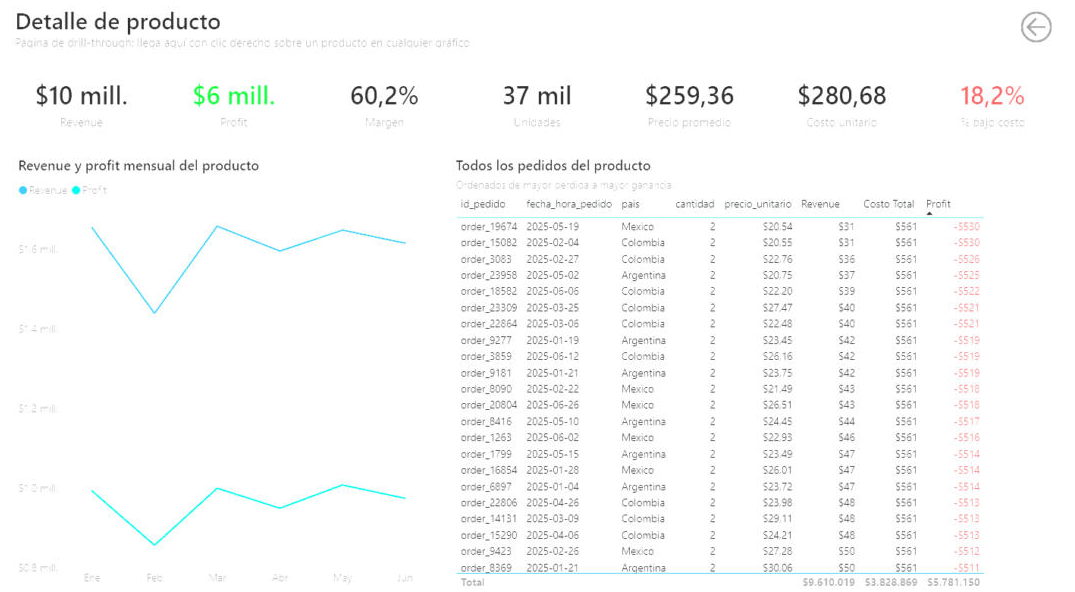

The page's visual inventory and layout, read from the dashboard file:
{"tool":"powerbi","page":{"name":"Detalle de producto","canvas":[1280,720],"ordinal":2},"visuals":[{"type":"textbox","box":[24,10,720,62],"z":0},{"type":"actionButton","box":[1200,18,48,48],"z":50},{"type":"card","fields":{"Values":["orders.Revenue"]},"box":[24,84,166,92],"z":200},{"type":"card","fields":{"Values":["orders.Profit"]},"box":[202,84,166,92],"z":201},{"type":"card","fields":{"Values":["orders.Margen %"]},"box":[379,84,166,92],"z":202},{"type":"card","fields":{"Values":["orders.Unidades"]},"box":[557,84,166,92],"z":203},{"type":"card","fields":{"Values":["orders.Precio Promedio"]},"box":[735,84,166,92],"z":204},{"type":"card","fields":{"Values":["catalog.Costo Unitario Catálogo"]},"box":[913,84,166,92],"z":205},{"type":"card","fields":{"Values":["orders.% Pedidos con Pérdida"]},"box":[1090,84,166,92],"z":206},{"type":"lineChart","title":"Revenue y profit mensual del producto","fields":{"Category":["dim_fecha.Mes"],"Y":["orders.Revenue","orders.Profit"]},"box":[24,188,500,520],"z":300},{"type":"tableEx","title":"Todos los pedidos del producto","fields":{"Values":["orders.id_pedido","orders.fecha_hora_pedido","orders.pais","orders.cantidad","orders.precio_unitario","orders.Revenue","orders.Costo Total","orders.Profit"]},"box":[536,188,720,520],"z":301}]}

Visuals, with their boxes in screenshot pixels (x1, y1, x2, y2), scaled from the page's 1280x720 canvas onto the 1075x592 screenshot:
textbox: detection(20, 8, 625, 59)
actionButton: detection(1008, 15, 1048, 54)
card - orders.Revenue: detection(20, 69, 160, 145)
card - orders.Profit: detection(170, 69, 309, 145)
card - orders.Margen %: detection(318, 69, 458, 145)
card - orders.Unidades: detection(468, 69, 607, 145)
card - orders.Precio Promedio: detection(617, 69, 757, 145)
card - catalog.Costo Unitario Catálogo: detection(767, 69, 906, 145)
card - orders.% Pedidos con Pérdida: detection(915, 69, 1055, 145)
"Revenue y profit mensual del producto" lineChart: detection(20, 155, 440, 582)
"Todos los pedidos del producto" tableEx: detection(450, 155, 1055, 582)
